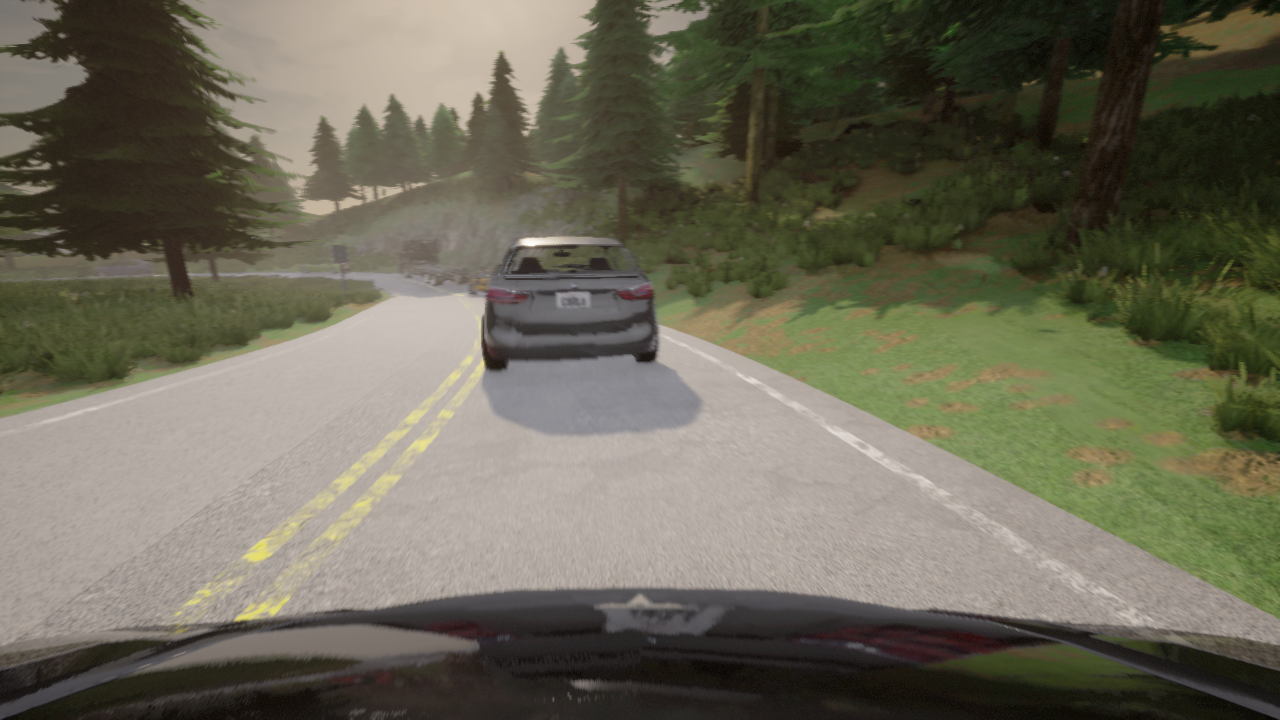cyclist: (0, 588, 1279, 719), (481, 237, 658, 371), (395, 237, 471, 286), (93, 260, 154, 278), (299, 258, 351, 274), (468, 269, 491, 296), (485, 265, 499, 288)
